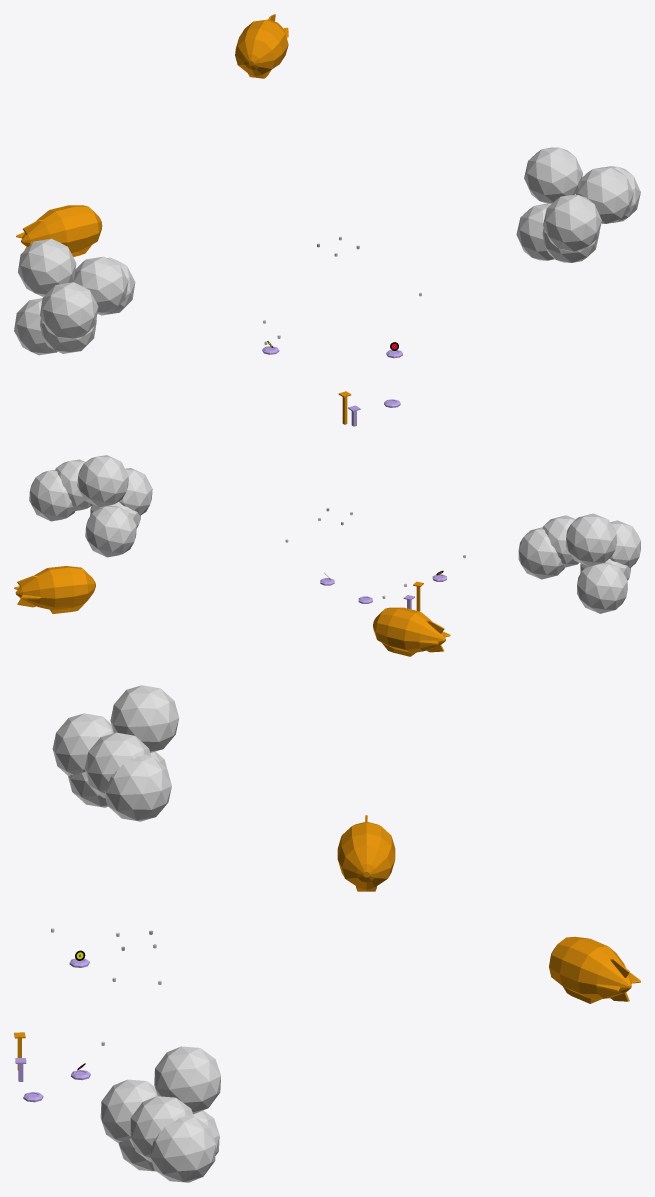
The model's file is TNRM_SM_Props_v01.fbx.
3 views of the same model, one above another, from view 1: azimuth 30°, elevation 25°; view 2: azimuth 150°, elevation 25°; view 3: azimuth 270°, elevation 25° (orthographic). The views are drawn at different scales.
Visible parts, largest first — view 1: Icosphere.007, Icosphere.006, Cylinder, Cylinder.023; view 2: Icosphere.007, Icosphere.006, Cylinder.023, Cylinder, Cylinder.009; view 3: Icosphere.006, Icosphere.007, Cylinder.023, Cylinder.
Boxes of the visible parts, bbox=[...] form: Icosphere.007: bbox=[516, 147, 640, 262]; Icosphere.006: bbox=[14, 238, 135, 355]; Cylinder: bbox=[16, 205, 102, 256]; Cylinder.023: bbox=[235, 14, 288, 78]; Icosphere.007: bbox=[29, 455, 152, 557]; Icosphere.006: bbox=[518, 513, 640, 613]; Cylinder.023: bbox=[14, 566, 95, 613]; Cylinder: bbox=[373, 607, 450, 656]; Cylinder.009: bbox=[320, 508, 446, 603]; Icosphere.006: bbox=[52, 685, 179, 821]; Icosphere.007: bbox=[100, 1046, 220, 1182]; Cylinder.023: bbox=[549, 936, 640, 1003]; Cylinder: bbox=[337, 815, 395, 891].
Size of the model in its own units: 21769 by 6776 by 15681.
